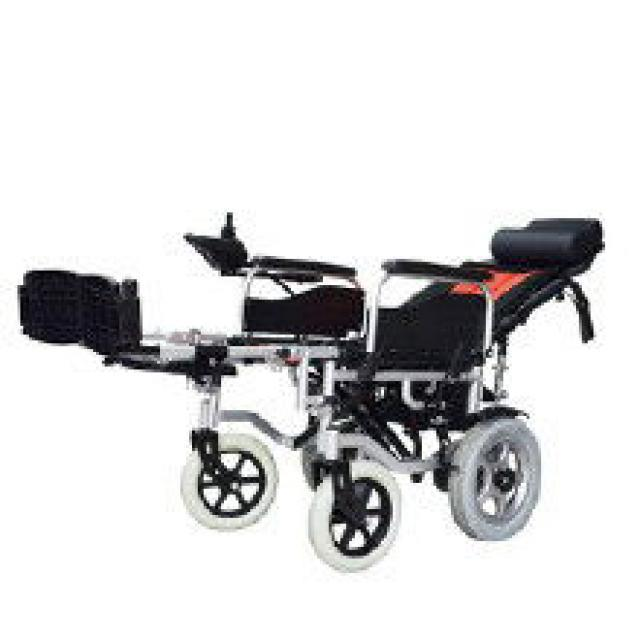wheelchair: (131, 186, 620, 570)
